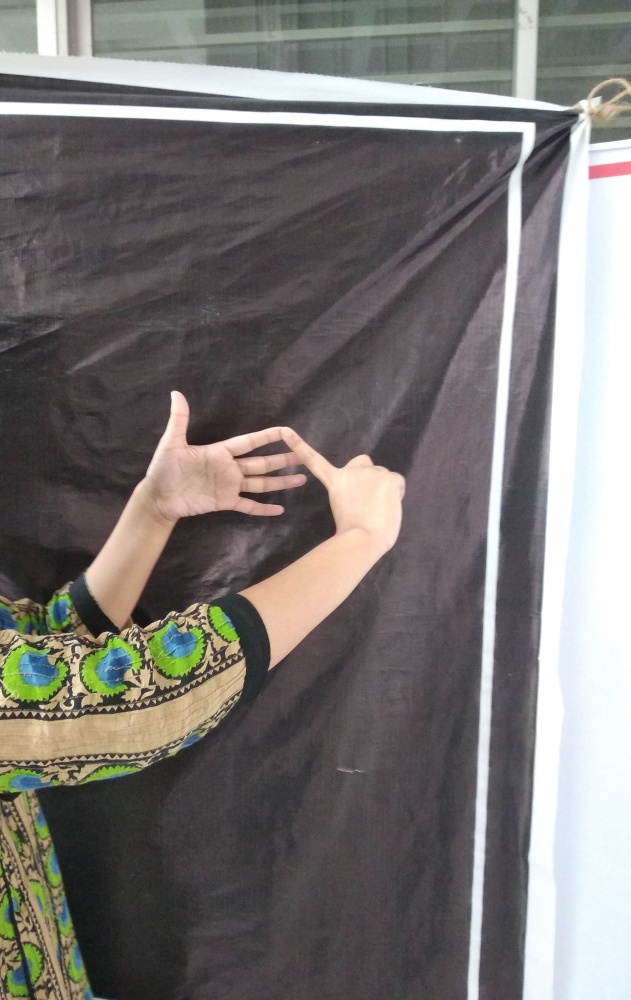o: (140, 384, 405, 566)
